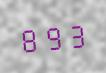eight: (18, 23, 40, 53)
nine: (42, 21, 64, 51)
three: (65, 19, 87, 49)
